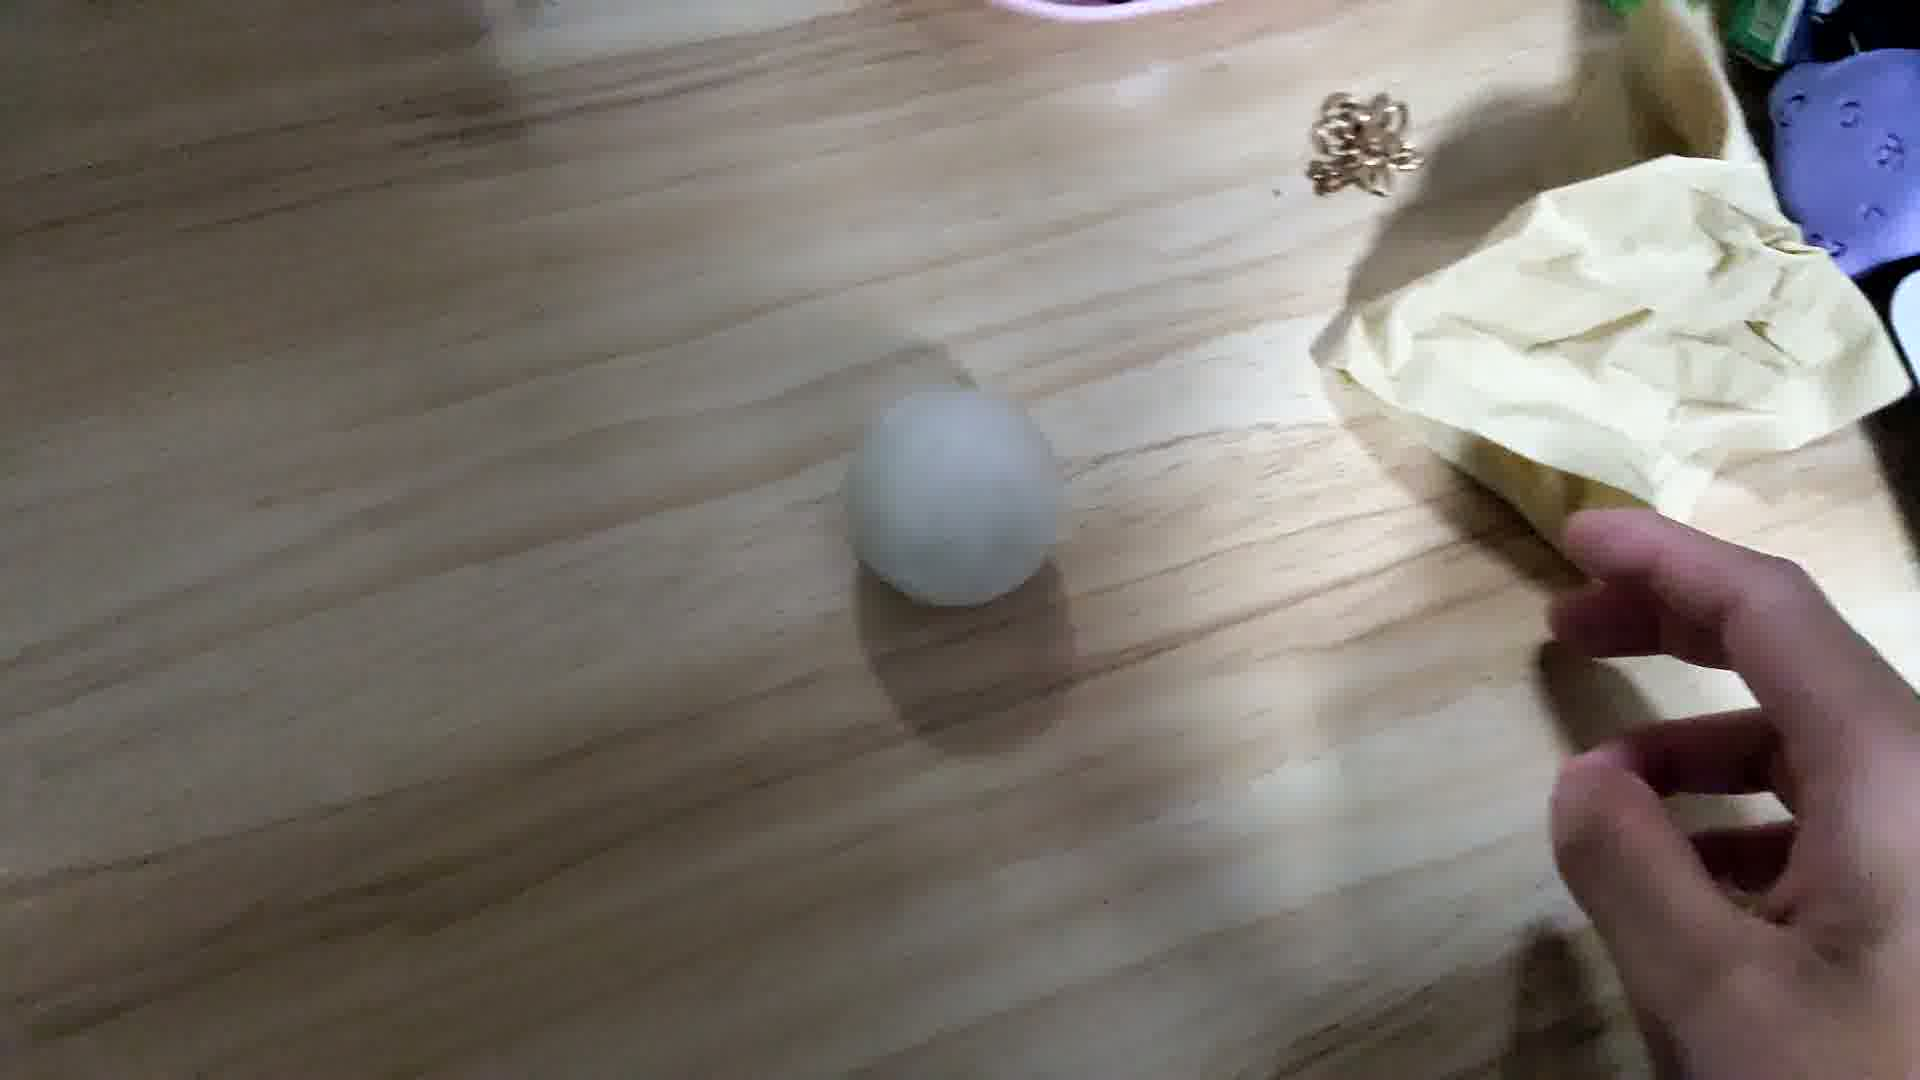Ball: (843, 382, 1072, 616)
